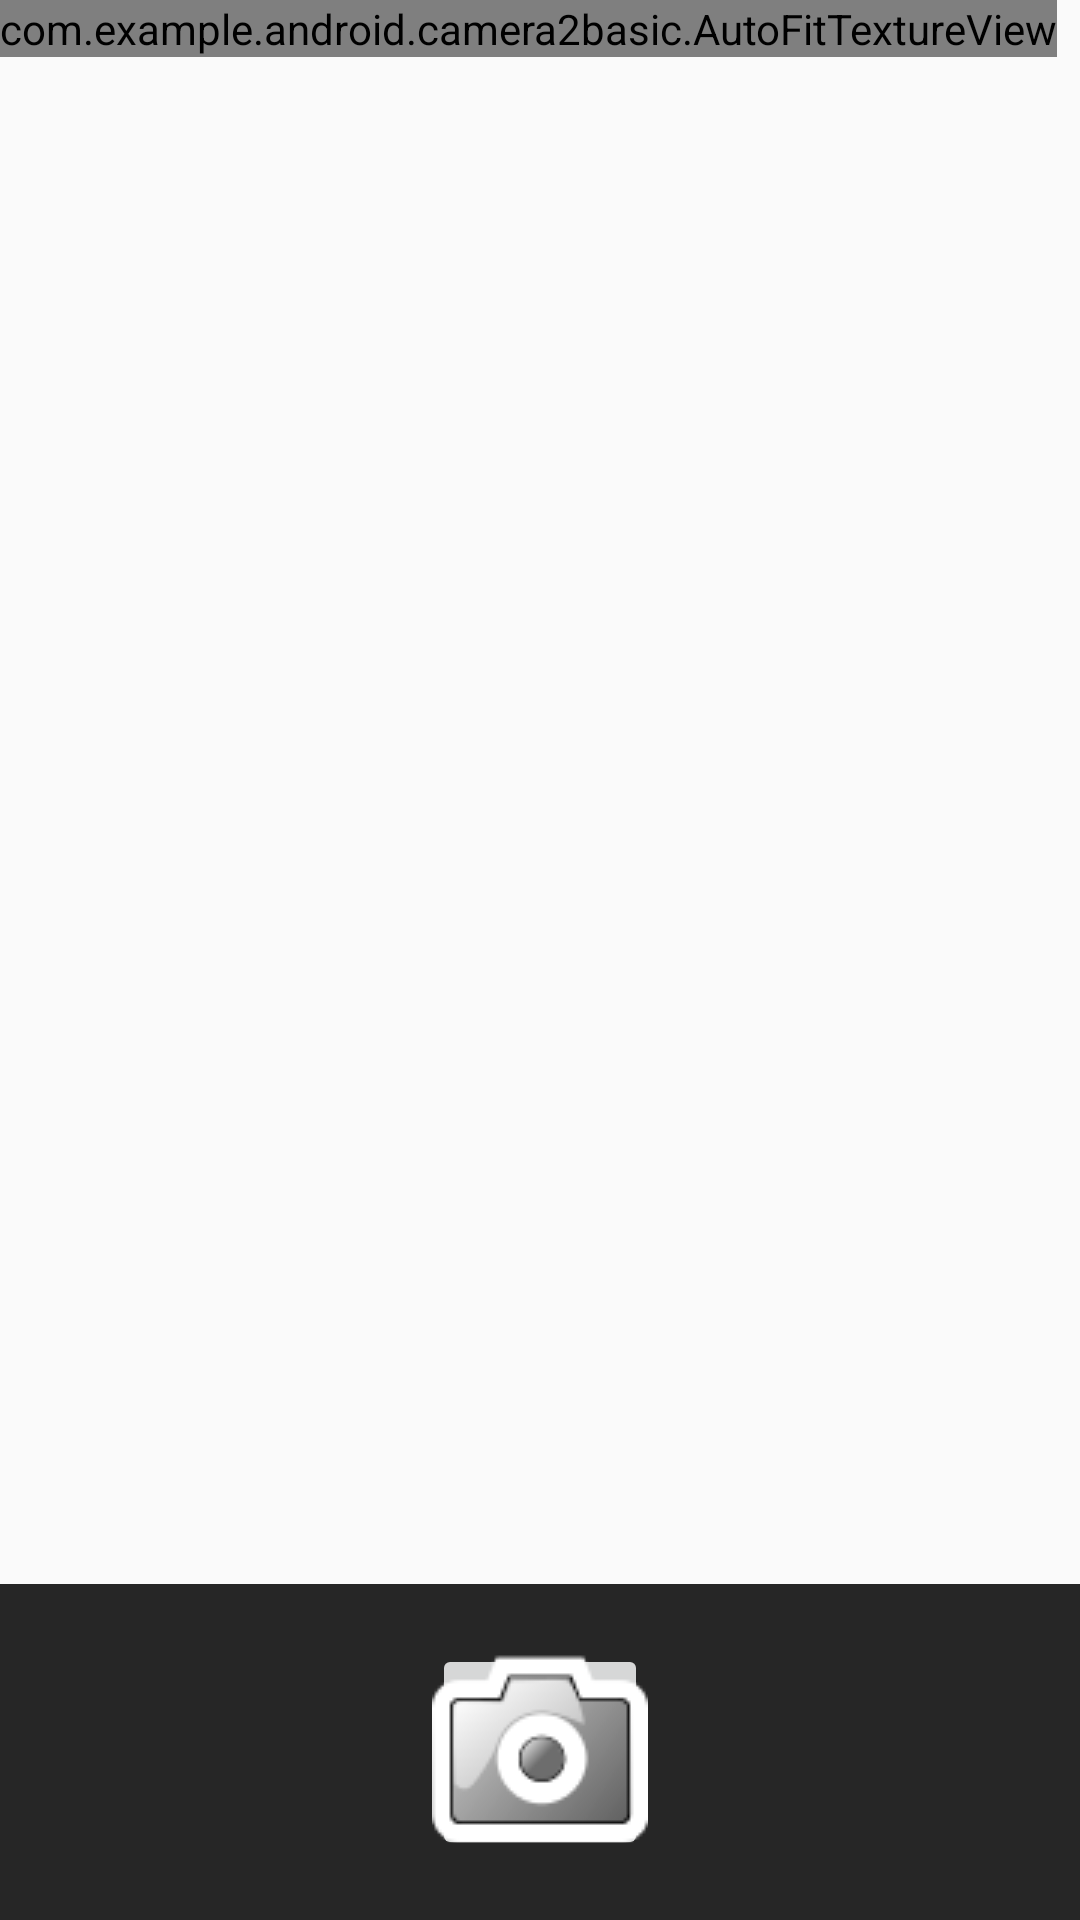

Icon click points for this 1080*1920 phone screenshot, format (x=x, y=y):
camera: (x=540, y=1749)
